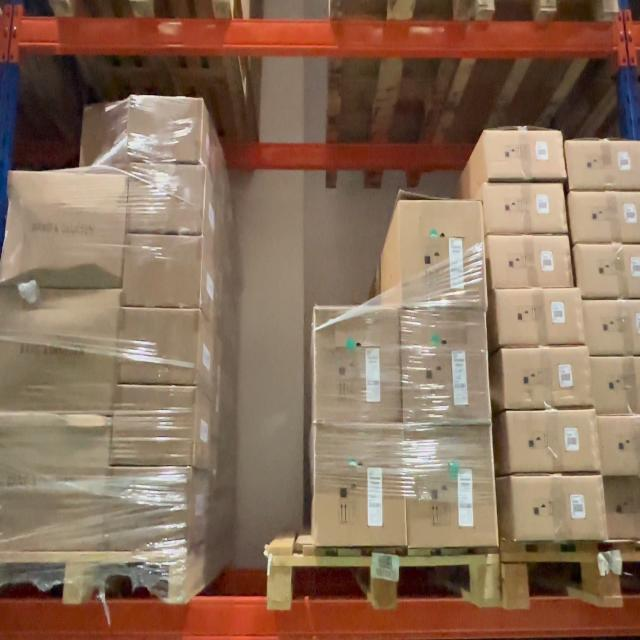box: (314, 427, 405, 541), (315, 308, 400, 422), (410, 430, 490, 546), (404, 314, 484, 418), (403, 202, 481, 302), (116, 393, 194, 460), (120, 312, 196, 379), (508, 414, 598, 468), (126, 237, 197, 304), (113, 477, 185, 543), (512, 480, 603, 531), (132, 165, 201, 232), (132, 96, 201, 160), (504, 351, 589, 402), (498, 294, 581, 340), (489, 184, 562, 232), (494, 242, 570, 284), (488, 133, 561, 175)
